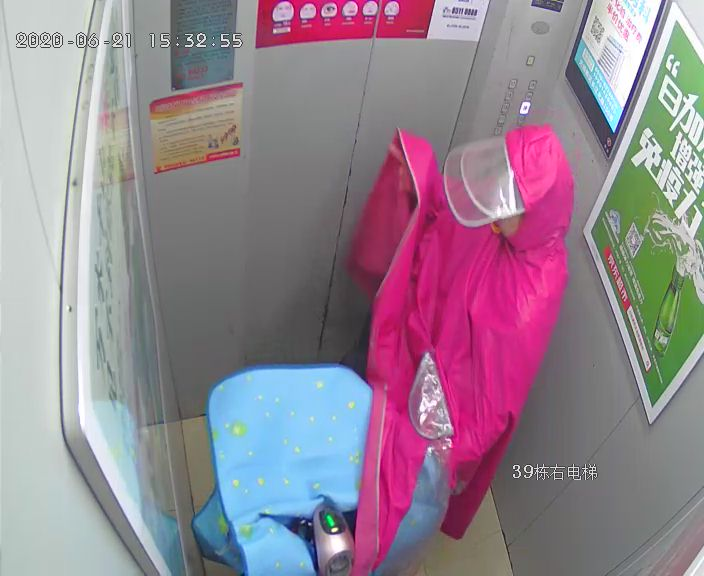Electric-bicycle: (227, 328, 413, 575)
